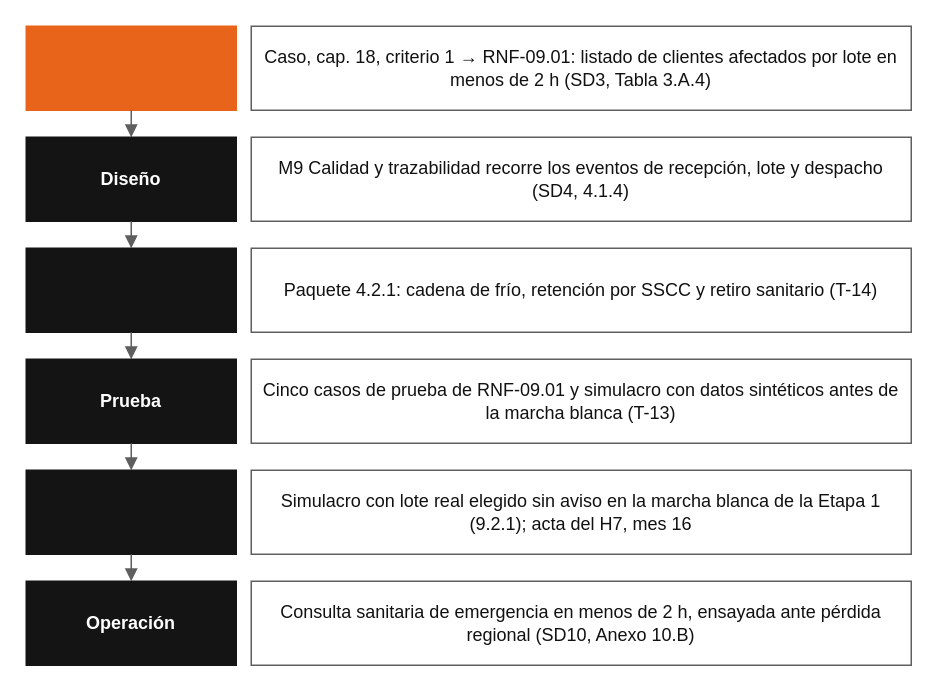
This 938x692 diagram has some shape labels left out. The shapes that lost their labels are listed below. From the top down, each one's centre as x and y in pixels, then its label:
point 130,67: Requerimiento
point 130,289: Construcción
point 130,511: Implantación
